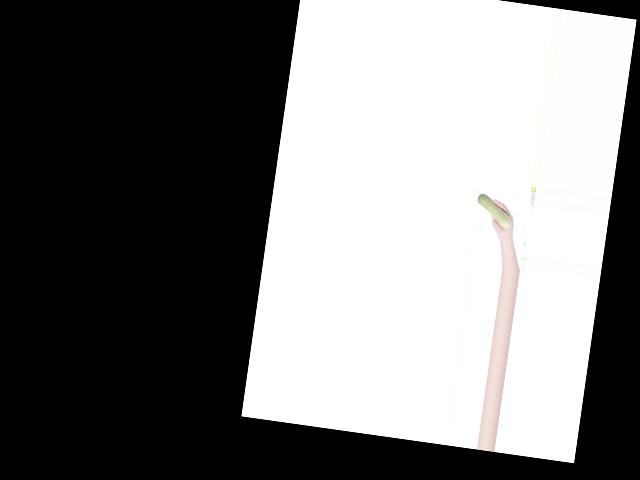cucumber: (474, 193, 515, 229)
